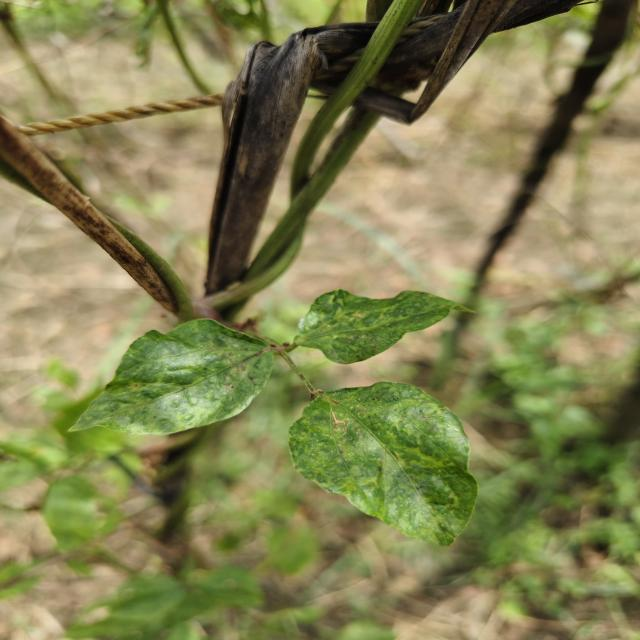sitaw-aphid-high: (289, 382, 477, 546), (69, 319, 274, 435), (299, 289, 466, 364)
